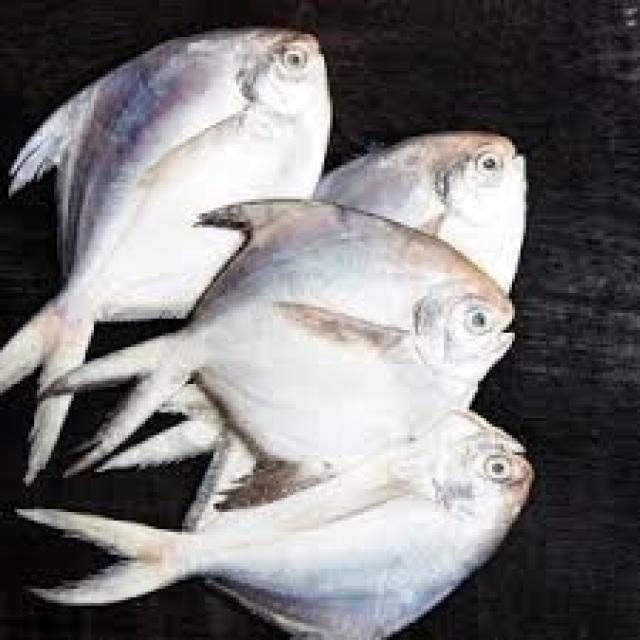pomfred: (37, 195, 517, 513)
